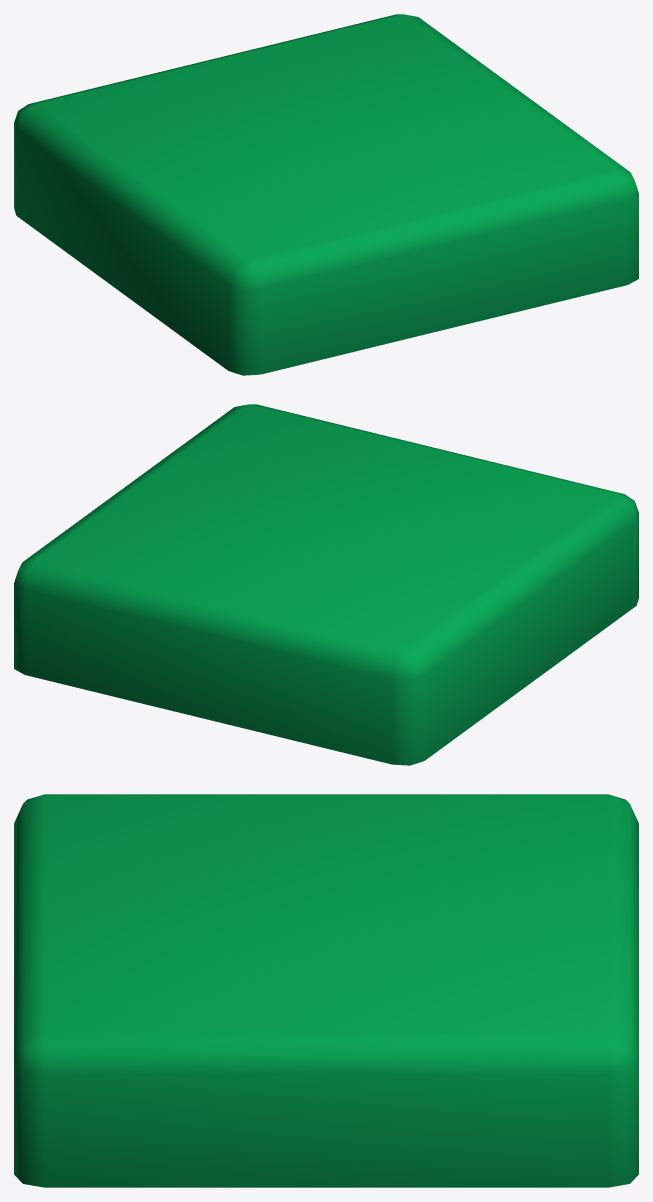
File: 3D_Tile_Top_01v03.fbx
3 views of the same model, one above another, from view 1: azimuth 30°, elevation 25°; view 2: azimuth 150°, elevation 25°; view 3: azimuth 270°, elevation 25° (orthographic). The views are drawn at different scales.
Visible parts, largest first — view 1: 3D_Tile_Top_01v03; view 2: 3D_Tile_Top_01v03; view 3: 3D_Tile_Top_01v03.
Part boxes in pixels (x1,y1,x2,y2): 3D_Tile_Top_01v03: [14, 14, 638, 375]; 3D_Tile_Top_01v03: [14, 404, 638, 765]; 3D_Tile_Top_01v03: [14, 794, 638, 1187].
Size of the model in its own units: 200 by 50 by 200.
